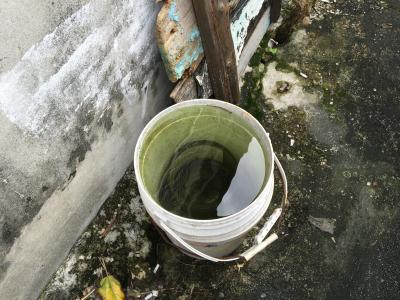bucket: (130, 94, 293, 272)
